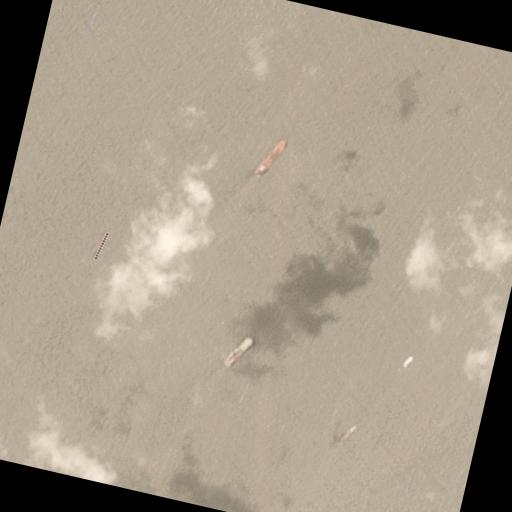ship: (78, 132, 234, 360), (253, 134, 291, 184), (224, 332, 254, 370), (421, 243, 425, 276)
